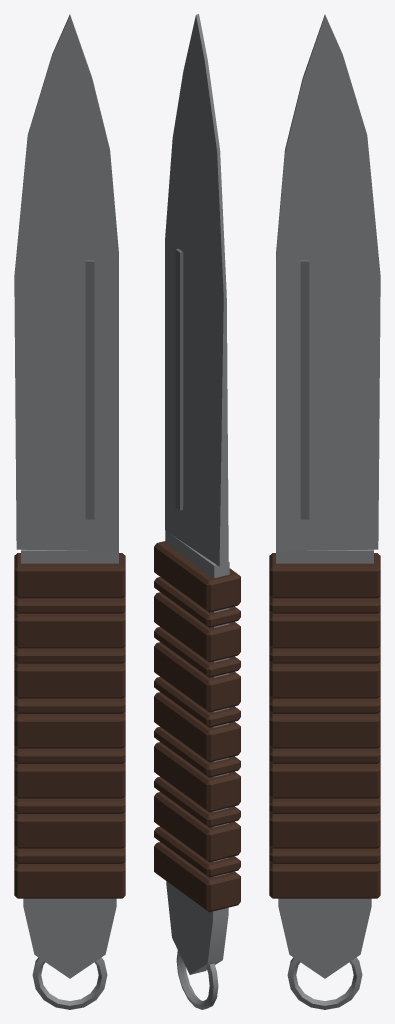
The model's file is prop_throwable_knife.glb.
3 renders of one model, left to right at view 1: azimuth 90°, elevation 25°; view 2: azimuth 210°, elevation 25°; view 3: azimuth 270°, elevation 25°, orthographic.
Visible parts, largest first — view 1: Body; view 2: Body; view 3: Body.
Part boxes in pixels (x1,y1,x2,y2): Body: (14, 14, 125, 1009); Body: (154, 14, 240, 1009); Body: (269, 14, 380, 1009).
Size of the model in its own units: 0.009 by 0.2464 by 0.025.
